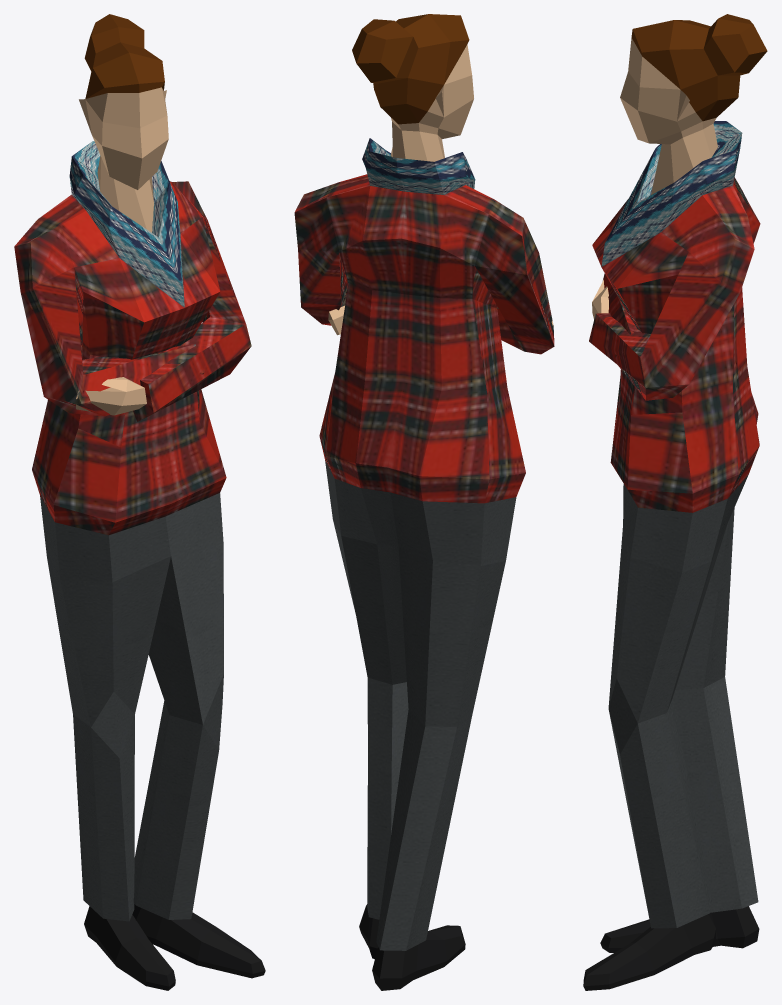
File: AutumnWomanC.009.glb
The picture shows the model from 3 angles, left to right: view 1: azimuth 30°, elevation 25°; view 2: azimuth 150°, elevation 25°; view 3: azimuth 270°, elevation 25°; orthographic projection. The views are drawn at different scales.
Visible parts, largest first — view 1: AutumnWomanC.009; view 2: AutumnWomanC.009; view 3: AutumnWomanC.009.
Part boxes in pixels (bbox=[...]): AutumnWomanC.009: bbox=[14, 14, 265, 990]; AutumnWomanC.009: bbox=[294, 14, 554, 990]; AutumnWomanC.009: bbox=[583, 14, 767, 990].
Size of the model in its own units: 0.4249 by 1.72 by 0.3074.
1 material, 1 textured.
